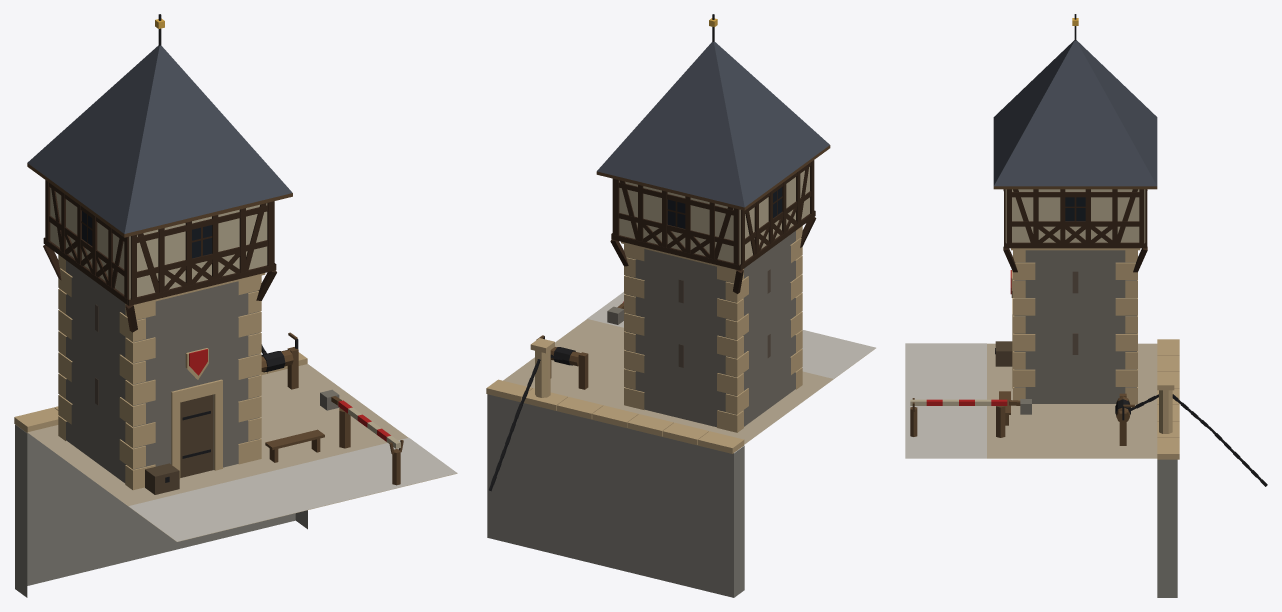
File: wasser_zoll.glb
The picture shows the model from 3 angles, left to right: view 1: azimuth 30°, elevation 25°; view 2: azimuth 150°, elevation 25°; view 3: azimuth 270°, elevation 25°; orthographic projection. The views are drawn at different scales.
Visible parts, largest first — view 1: Haus; view 2: Haus; view 3: Haus.
Boxes of the visible parts, x1,y1,x2,y2 form: Haus: (14, 14, 457, 597); Haus: (486, 14, 875, 597); Haus: (905, 14, 1267, 597).
Size of the model in its own units: 8 by 16.3 by 10.64.
